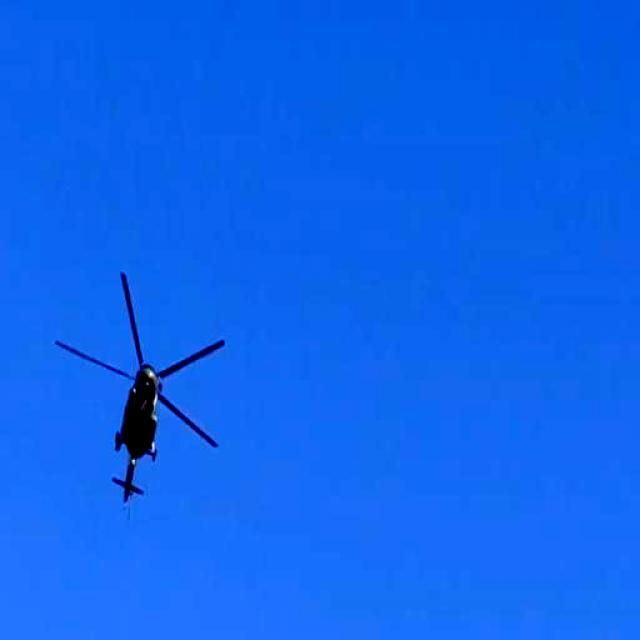drone: (51, 270, 236, 511)
